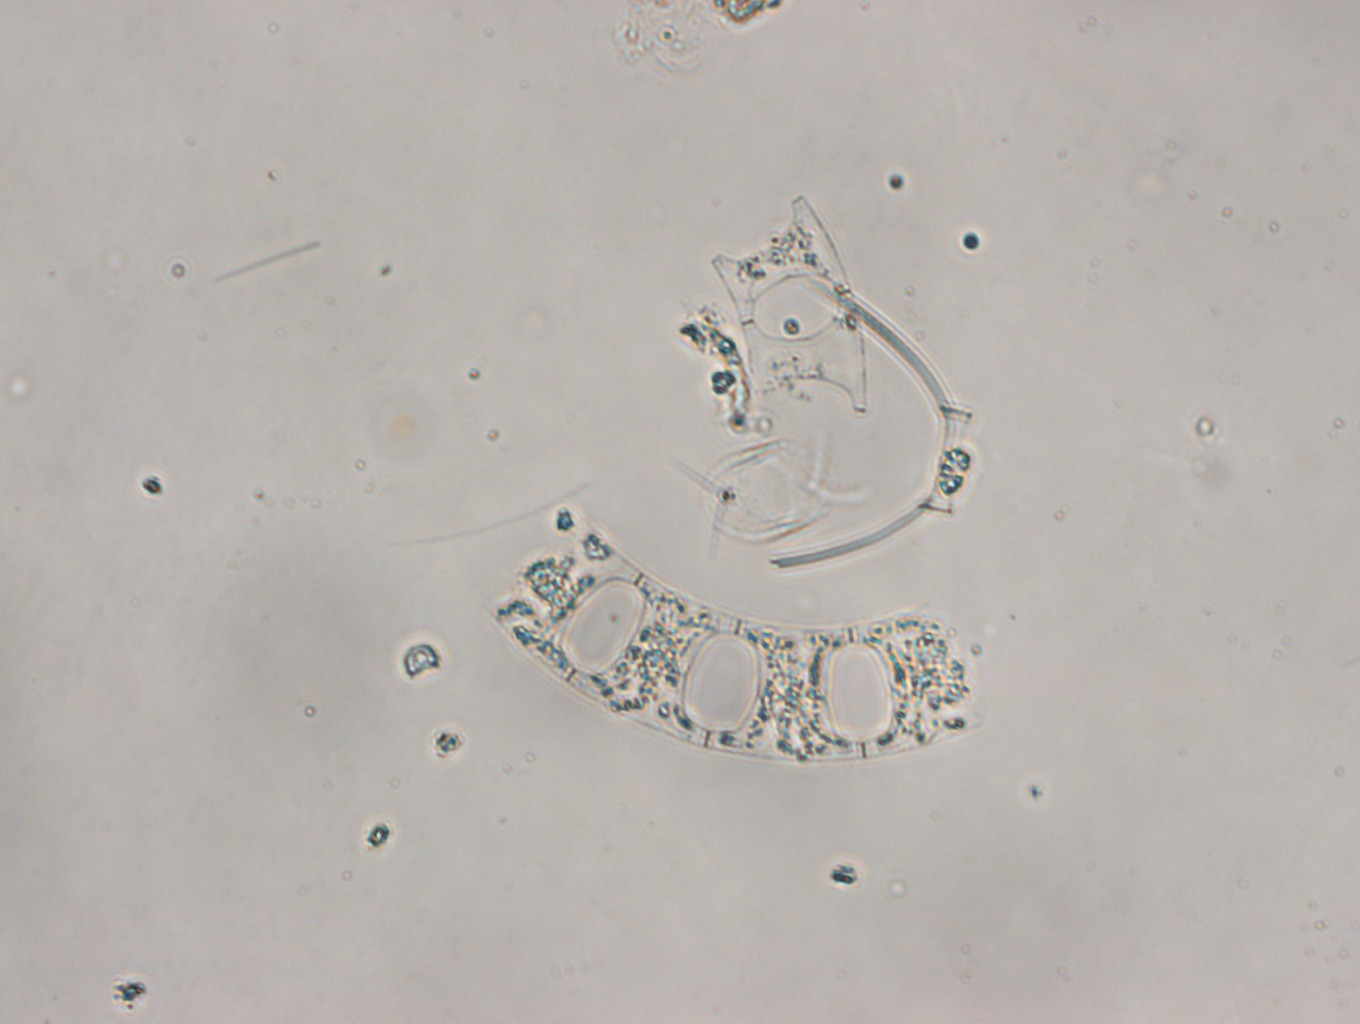chaetoceros: (765, 286, 976, 570)
eucampia: (491, 521, 983, 763), (707, 189, 871, 431)
